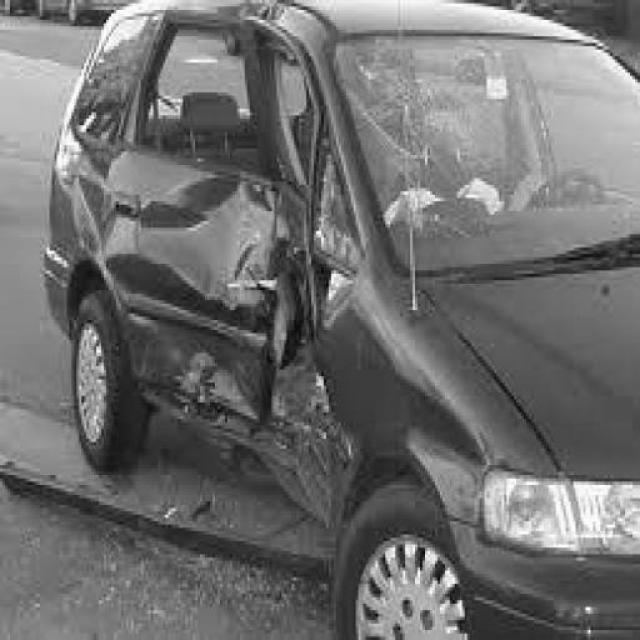crack: (349, 38, 571, 208)
crush: (64, 2, 381, 528)
